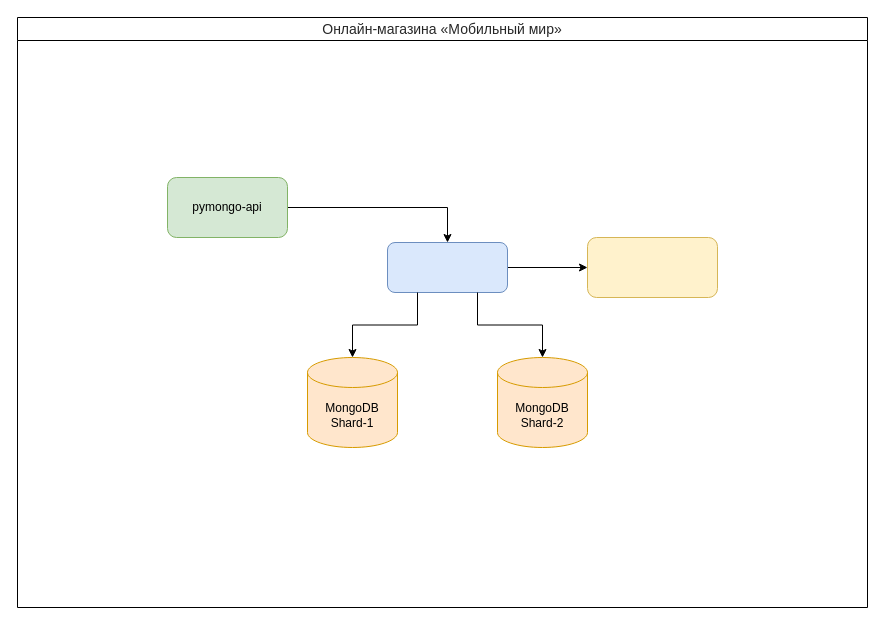
This 885x625 diagram has some shape labels left out. Each missing label, with the box of its shape:
Mongo Config-Server: (586, 236, 718, 298)
Mongo Router: (386, 242, 508, 292)
